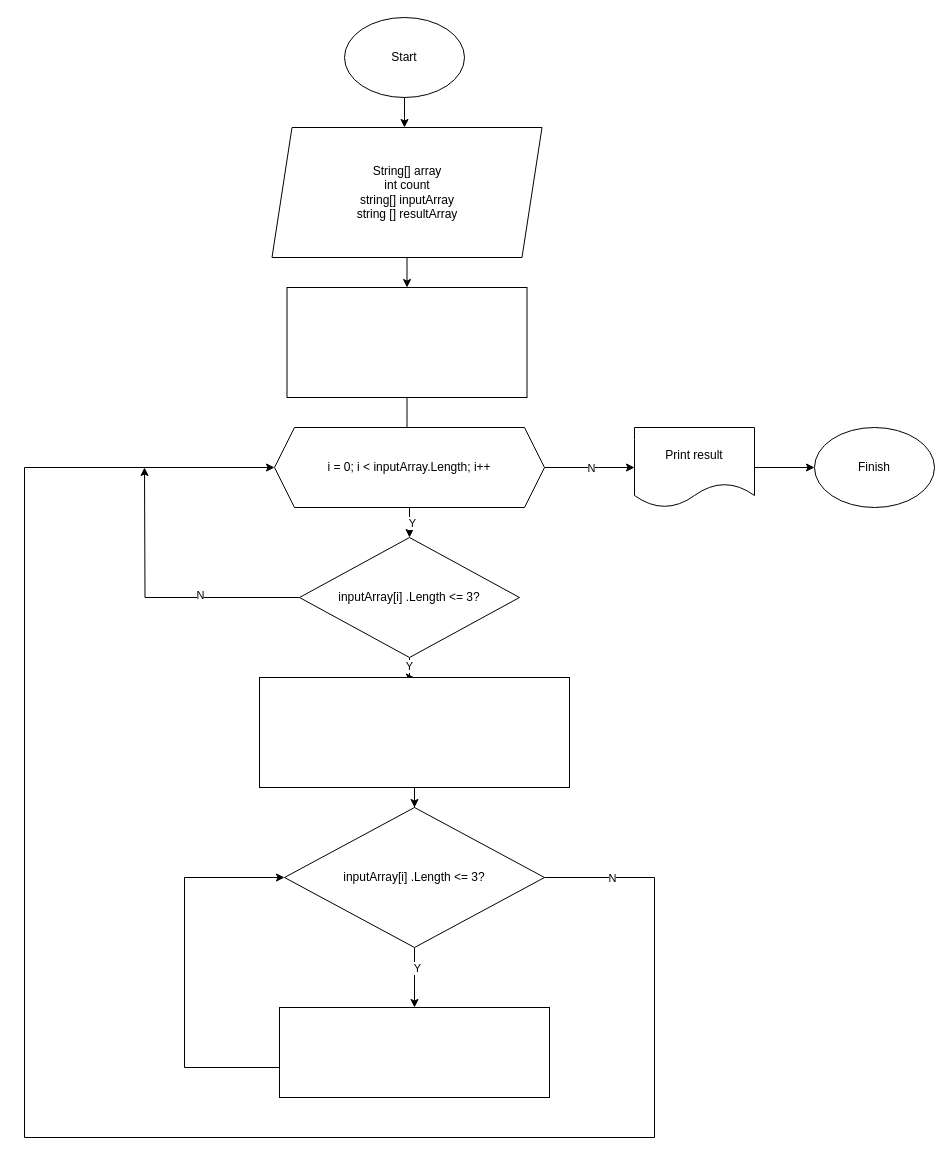
The diagram is 952 pixels wide and 1163 high, and some of its shapes have lost their labels. The shapes that lost their labels are listed below. From the top down, each one's centre as x and y in pixels, then its label:
At (x=406, y=342): "Count = 0 inputArray = new string [count] resultArray = inputArray".
At (x=414, y=732): "count++ string[] resultArray = new string[count] resultIndex = 0".
At (x=414, y=1052): "resultArray[resultIndex] = inputArray[i] resultIndex++".
